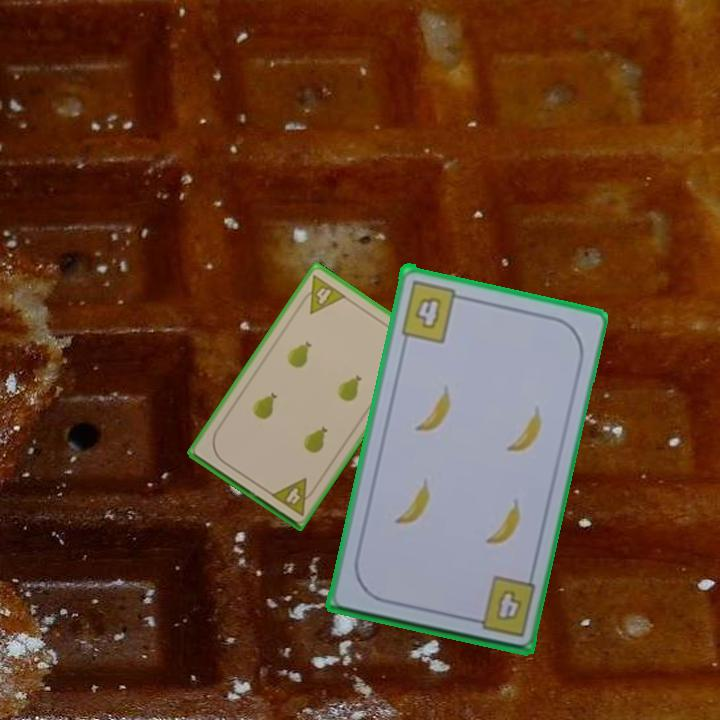4b: (397, 276, 469, 345), (492, 585, 525, 624)
4p: (295, 271, 349, 317), (267, 474, 320, 519)
